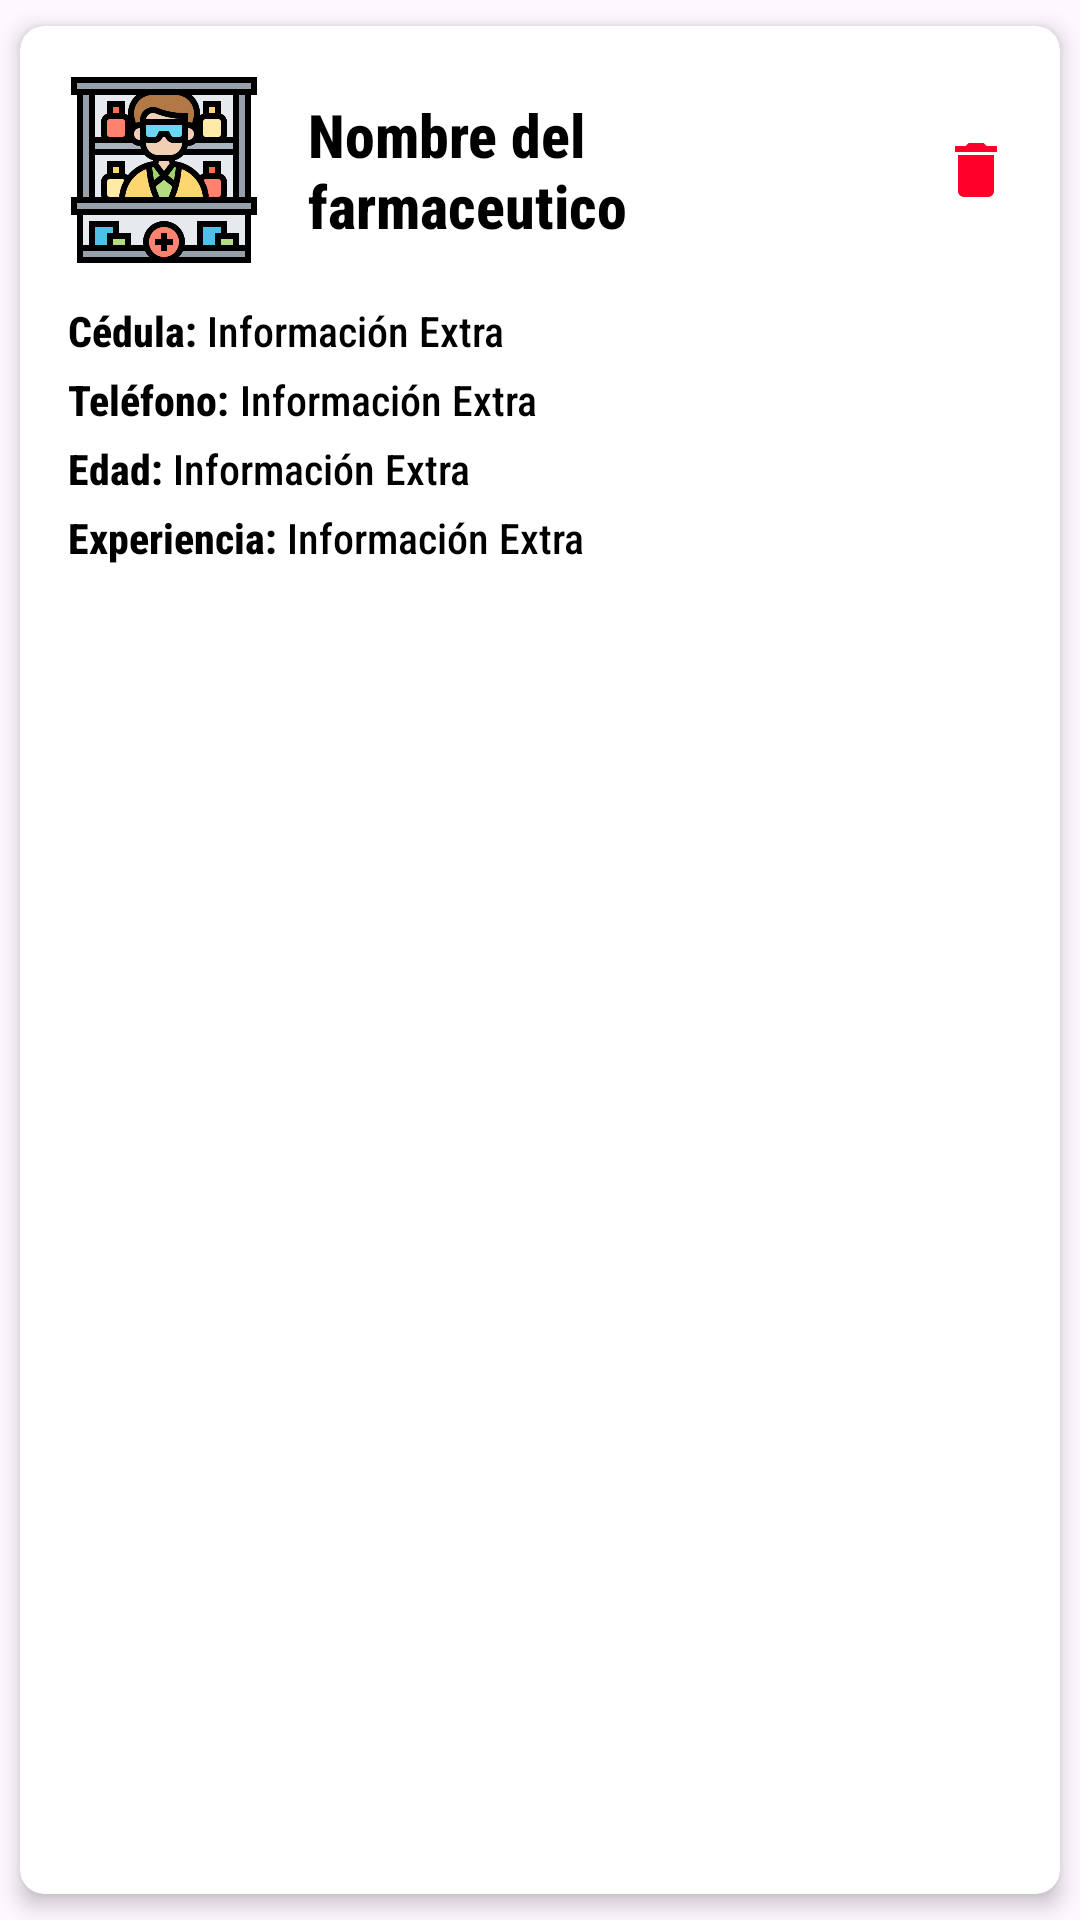

Screen size 1080x1920. Icon name, then its center in pixels as (x=x, y=y):
delete: (x=976, y=170)
Icono farmaceutico: (x=164, y=170)
